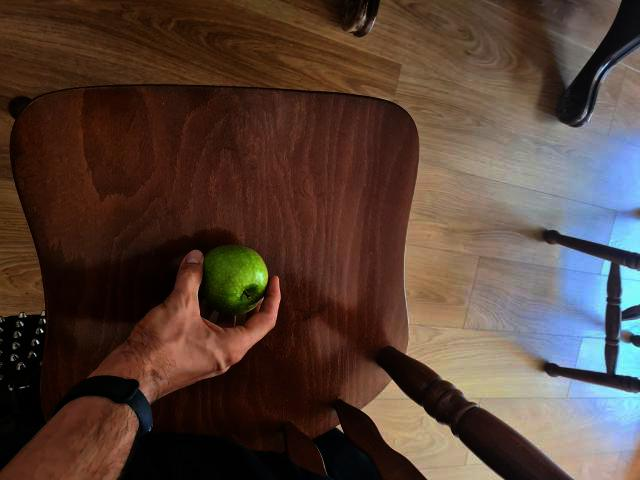apple: (196, 244, 275, 309)
